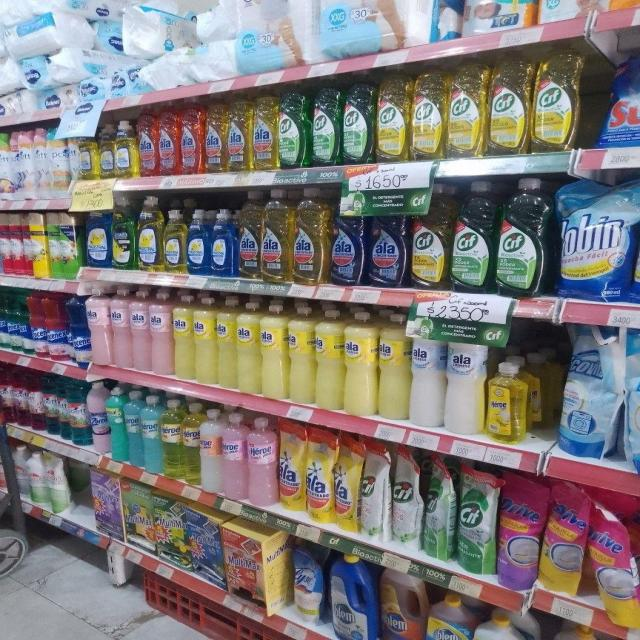ala_conc_amarillo: (293, 186, 328, 286), (261, 188, 292, 284), (238, 190, 260, 280), (252, 96, 277, 171), (228, 98, 251, 173), (204, 100, 227, 174)
ala_conc_azul: (330, 188, 366, 286), (368, 205, 408, 288)
ala_conc_rojo: (180, 98, 203, 175), (158, 101, 179, 176), (139, 104, 157, 178)
ala_crem_amarillo: (261, 301, 287, 401), (237, 300, 260, 395), (174, 294, 194, 381)
ala_crem_blanco: (445, 339, 485, 435)
ala_crem_rosado: (151, 290, 172, 376), (111, 288, 131, 370), (131, 288, 150, 372)
ala_sachet_amarillo: (306, 428, 333, 524), (278, 423, 304, 514), (335, 435, 358, 532)
cif_conc_bot_amarilla: (532, 49, 580, 152), (410, 182, 450, 290), (488, 58, 530, 155), (447, 64, 486, 158), (410, 69, 446, 160), (375, 75, 409, 162)
cif_conc_botella_verde: (495, 177, 550, 297), (452, 179, 494, 293), (342, 81, 373, 165), (310, 84, 340, 167), (278, 88, 307, 169)
cif_conc_sachet_verde: (457, 466, 496, 576)
drive: (542, 478, 588, 594)
heroe: (247, 416, 277, 507), (222, 412, 247, 501), (201, 407, 221, 494), (162, 398, 183, 479), (142, 394, 162, 474), (183, 403, 200, 484)
magistral_con_amarillo: (138, 196, 162, 272), (164, 206, 186, 274), (116, 119, 138, 179), (99, 121, 115, 179)
magistral_con_azul: (210, 207, 237, 277), (85, 200, 111, 268), (112, 196, 135, 270), (627, 340, 640, 470), (187, 208, 209, 275)
